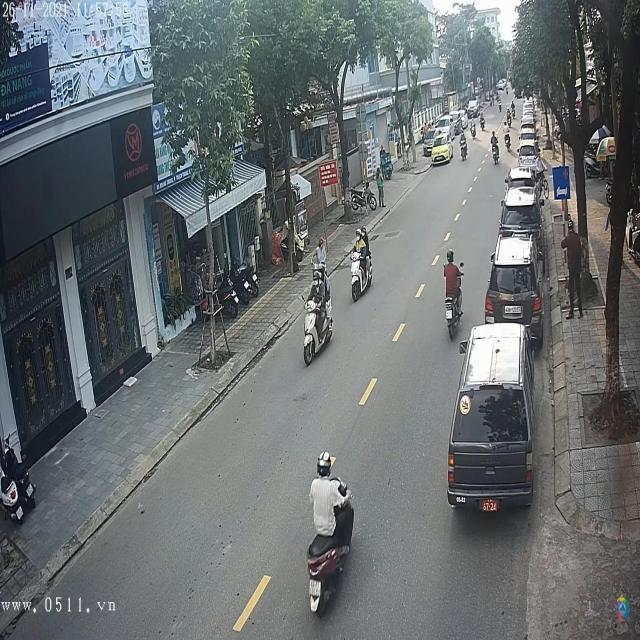car: (449, 326, 534, 510), (485, 246, 542, 337), (500, 189, 544, 238), (505, 169, 537, 204), (430, 132, 455, 163), (517, 146, 540, 170), (516, 130, 539, 150)
motorcycle: (306, 548, 347, 618), (301, 296, 333, 369), (349, 248, 375, 303), (444, 288, 465, 340)
